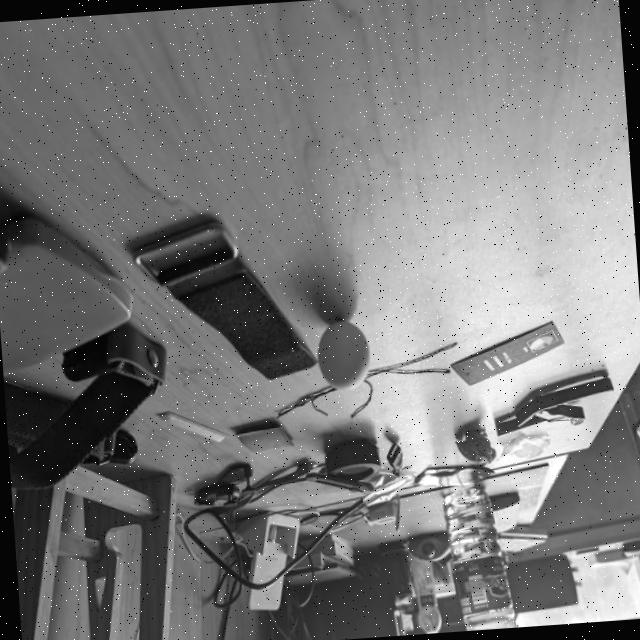ping-pong-ball: (314, 314, 372, 394)
